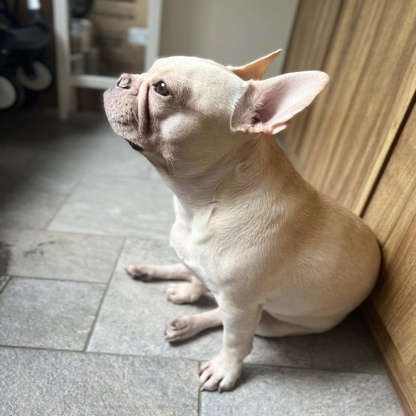bulldog: (100, 46, 385, 394)
